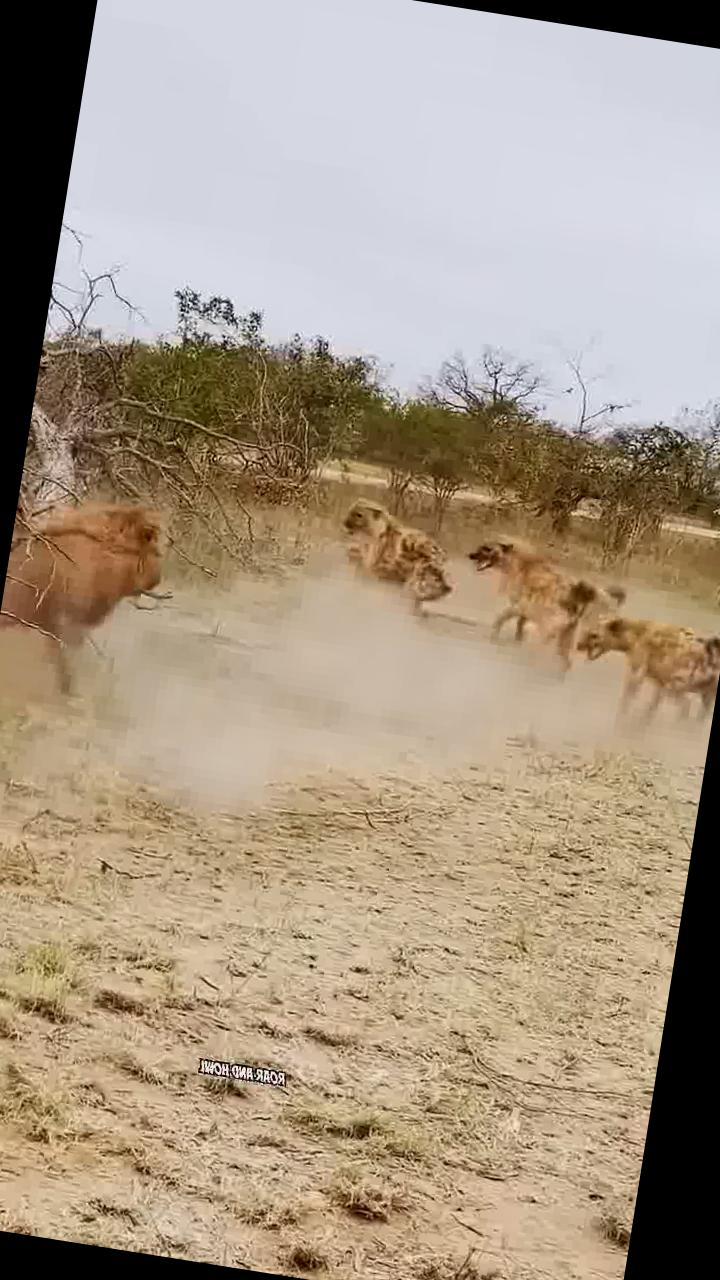hyenas: (242, 452, 720, 746)
lions: (0, 452, 200, 750)
